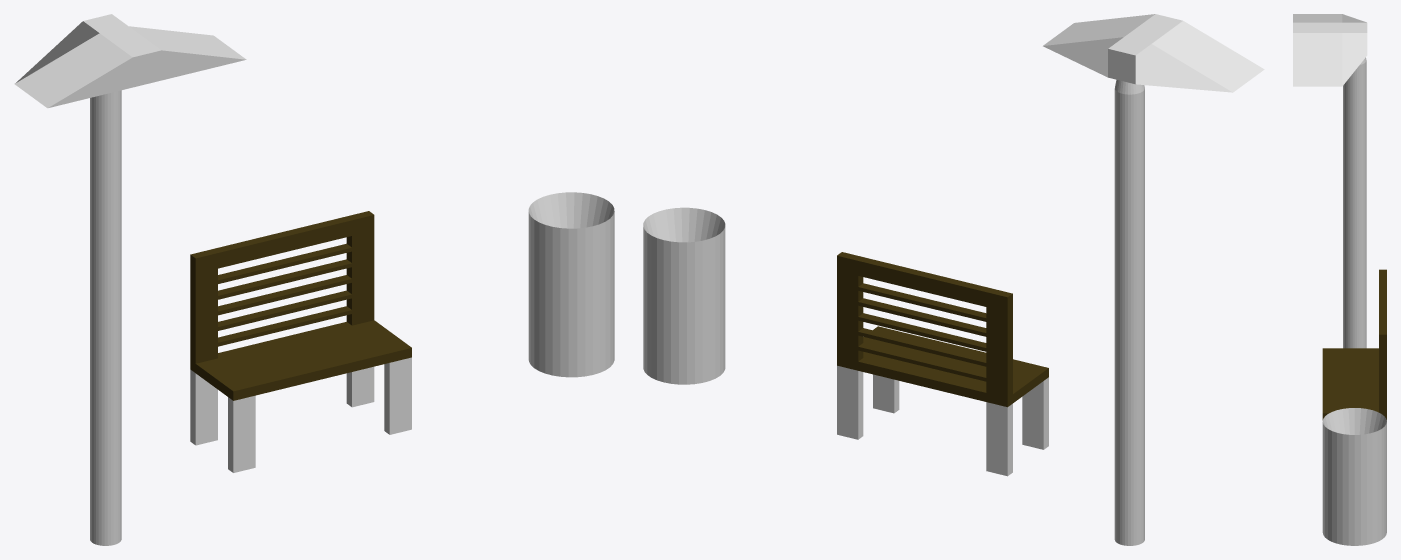
The model's file is CityEssentials.fbx.
3 views of the same model, side by side, from view 1: azimuth 30°, elevation 25°; view 2: azimuth 150°, elevation 25°; view 3: azimuth 270°, elevation 25° (orthographic). The views are drawn at different scales.
Parts seen in each view (by area): view 1: Cube, Cylinder.001, Cylinder; view 2: Cube, Cylinder.001, Cylinder; view 3: Cylinder.001, Cylinder, Cube.
Part boxes in pixels (bbox=[...]): Cube: bbox=[190, 211, 411, 472]; Cylinder.001: bbox=[14, 14, 246, 545]; Cylinder: bbox=[528, 192, 614, 377]; Cube: bbox=[837, 252, 1048, 476]; Cylinder.001: bbox=[1043, 14, 1264, 545]; Cylinder: bbox=[643, 207, 725, 384]; Cylinder.001: bbox=[1293, 14, 1367, 348]; Cylinder: bbox=[1322, 408, 1386, 545]; Cube: bbox=[1322, 269, 1386, 420].
Bounding box in the file's own units: 1616 × 1321 × 292.
